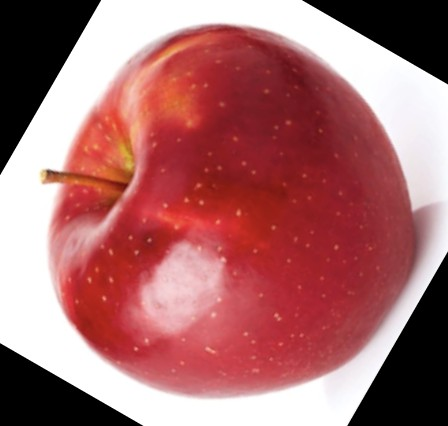fresh_apple: (49, 23, 417, 395)
